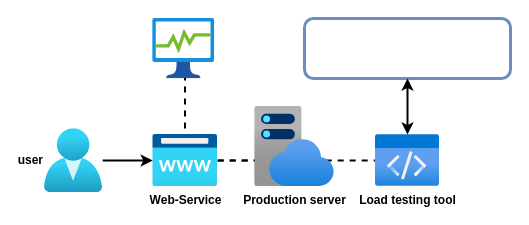
This 529x225 diagram has some shape labels left out. The shapes that lost their labels are listed below. From the top down, each one's centre as x and y in pixels, then its label:
At point 183,48: "Personal computer".
At point 407,48: "System under test (SUT)".
